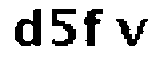5: (48, 3, 79, 53)
d: (10, 5, 44, 51)
f: (81, 6, 105, 51)
v: (112, 15, 148, 49)
